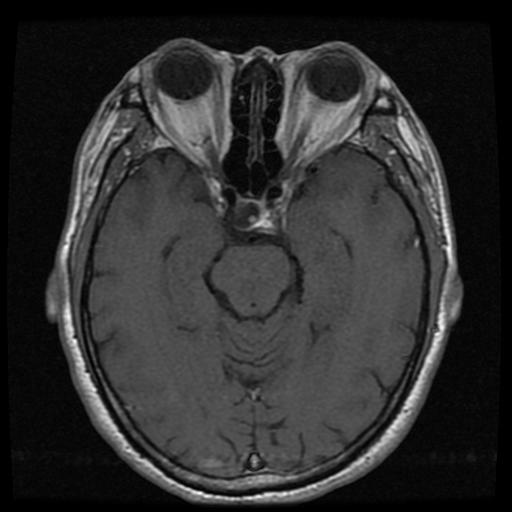Tumour-Pituitary: (209, 179, 295, 242)
